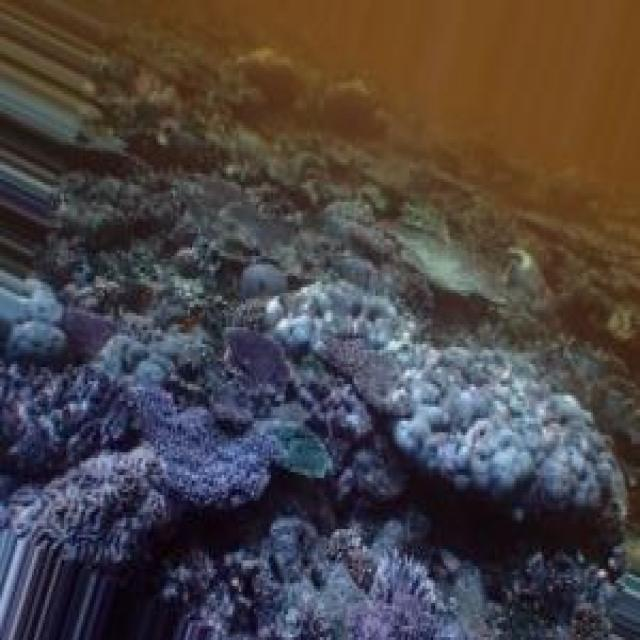Bleached: (353, 348, 624, 524), (261, 266, 428, 419)
Healthy: (16, 146, 628, 640), (14, 448, 182, 573), (1, 365, 146, 490), (152, 413, 332, 513), (223, 328, 298, 416), (255, 422, 336, 485)
